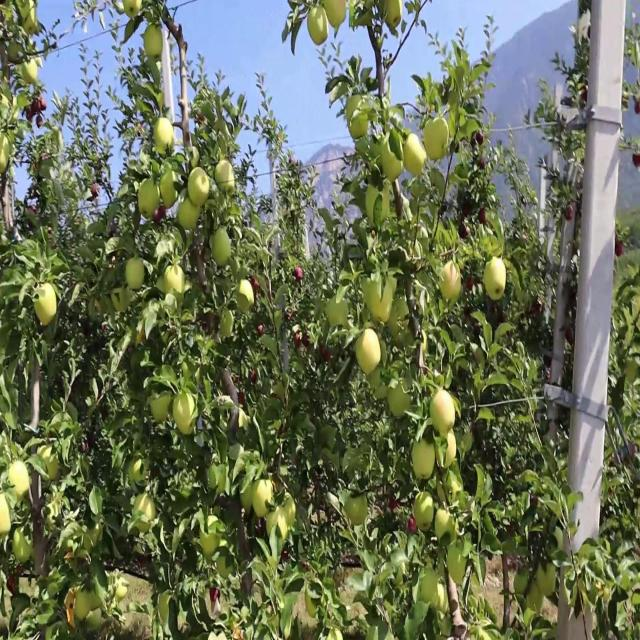apple: (356, 327, 382, 377), (368, 279, 395, 327), (484, 255, 508, 302), (172, 391, 198, 434), (424, 120, 449, 164), (432, 391, 456, 436), (412, 440, 436, 484), (348, 99, 371, 142), (380, 142, 404, 183), (405, 135, 427, 178), (440, 263, 463, 304), (36, 284, 59, 325), (308, 7, 329, 50), (388, 305, 409, 348), (8, 462, 31, 501), (388, 383, 412, 420), (212, 227, 232, 270), (68, 590, 88, 633), (140, 177, 160, 219), (188, 170, 211, 206), (436, 433, 457, 471), (252, 483, 274, 519), (236, 277, 256, 315), (136, 497, 157, 533), (180, 199, 202, 233), (168, 263, 187, 302), (160, 170, 179, 208), (324, 0, 348, 30), (152, 120, 172, 156), (416, 497, 436, 533), (444, 469, 463, 503), (152, 391, 172, 423), (128, 255, 145, 292), (144, 28, 164, 59), (328, 298, 348, 329), (540, 561, 557, 597), (200, 526, 219, 558), (372, 369, 389, 404), (348, 497, 368, 526), (16, 526, 32, 562), (436, 511, 455, 539), (172, 127, 191, 155), (40, 319, 59, 347), (128, 455, 146, 484), (0, 497, 12, 539), (216, 163, 234, 190), (244, 277, 260, 306), (24, 56, 39, 85), (488, 234, 504, 261), (388, 0, 403, 28), (220, 312, 234, 341), (388, 7, 403, 34), (436, 583, 449, 613), (68, 590, 77, 633), (8, 42, 23, 66), (112, 291, 127, 313), (88, 298, 103, 320), (100, 291, 113, 315), (220, 177, 236, 196), (160, 270, 171, 297), (48, 462, 60, 484), (156, 206, 168, 226), (116, 583, 128, 603), (228, 199, 240, 219), (180, 127, 191, 148), (208, 590, 220, 606), (372, 35, 384, 50), (480, 206, 488, 228), (616, 241, 624, 258), (4, 92, 11, 107), (636, 99, 640, 116), (4, 156, 8, 171), (636, 156, 640, 171)
